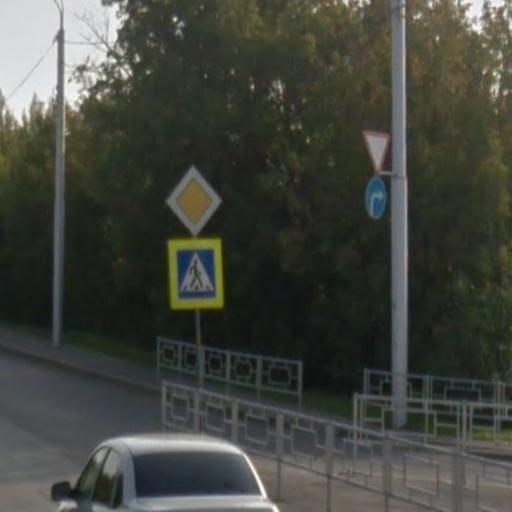traffic_sign: (161, 160, 229, 241), (168, 240, 224, 313), (360, 126, 395, 177)
